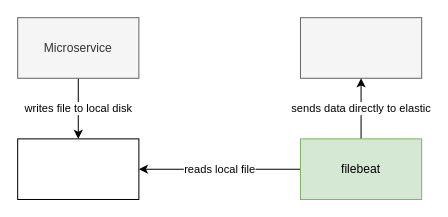
The diagram is 448 pixels wide and 217 high, and some of its shapes have lost their labels. Each missing label, with the centre of its shape:
Elastic Stack: the point at 360,47
messages.json: the point at 78,168
